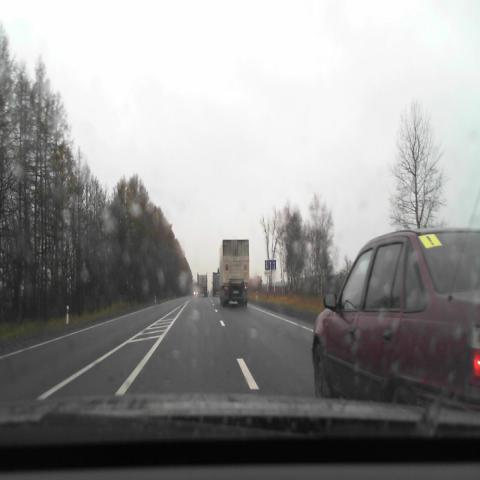5_15_7: (265, 259, 276, 270)
